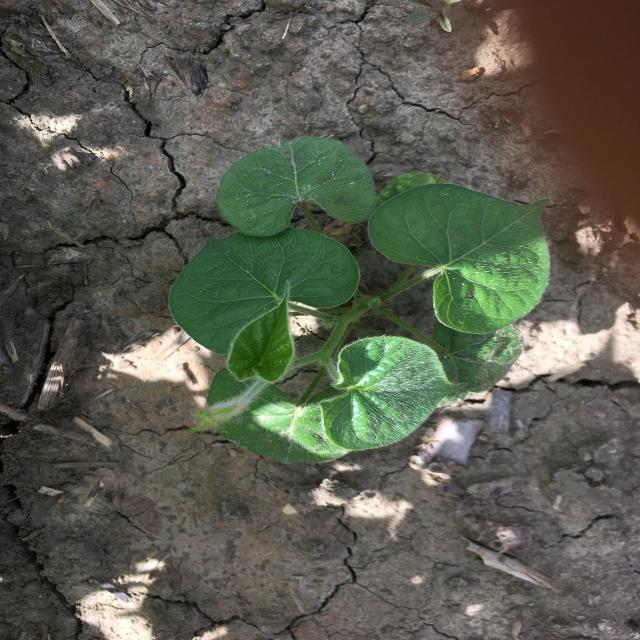MorningGlory: (169, 137, 549, 464)
